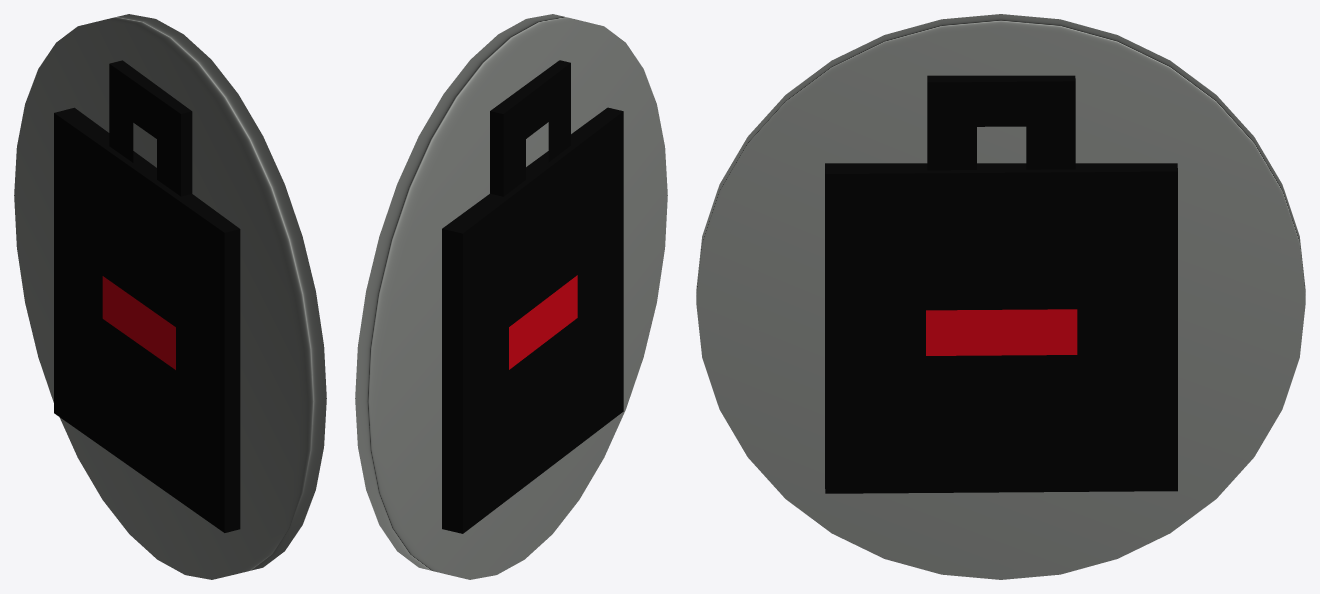
Rendered from healicon3.fbx.
The picture shows the model from 3 angles, left to right: view 1: azimuth 30°, elevation 25°; view 2: azimuth 150°, elevation 25°; view 3: azimuth 270°, elevation 25°; orthographic projection. The views are drawn at different scales.
Parts seen in each view (by area): view 1: Cylinder; view 2: Cylinder; view 3: Cylinder.
Boxes of the visible parts, left/top/right/bottom form: Cylinder: left=14, top=14, right=326, bottom=579; Cylinder: left=355, top=14, right=667, bottom=579; Cylinder: left=696, top=14, right=1305, bottom=579.
Bounding box in the file's own units: 50.46 × 368 × 368.
